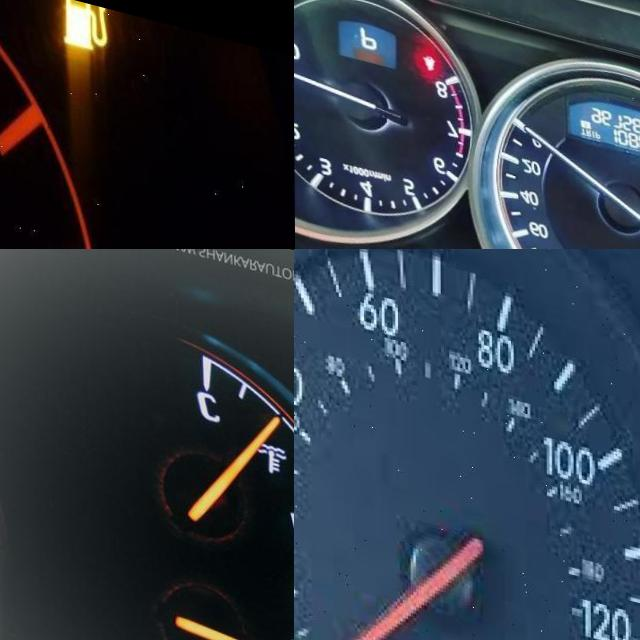Seat Belt: (421, 42, 437, 69)
